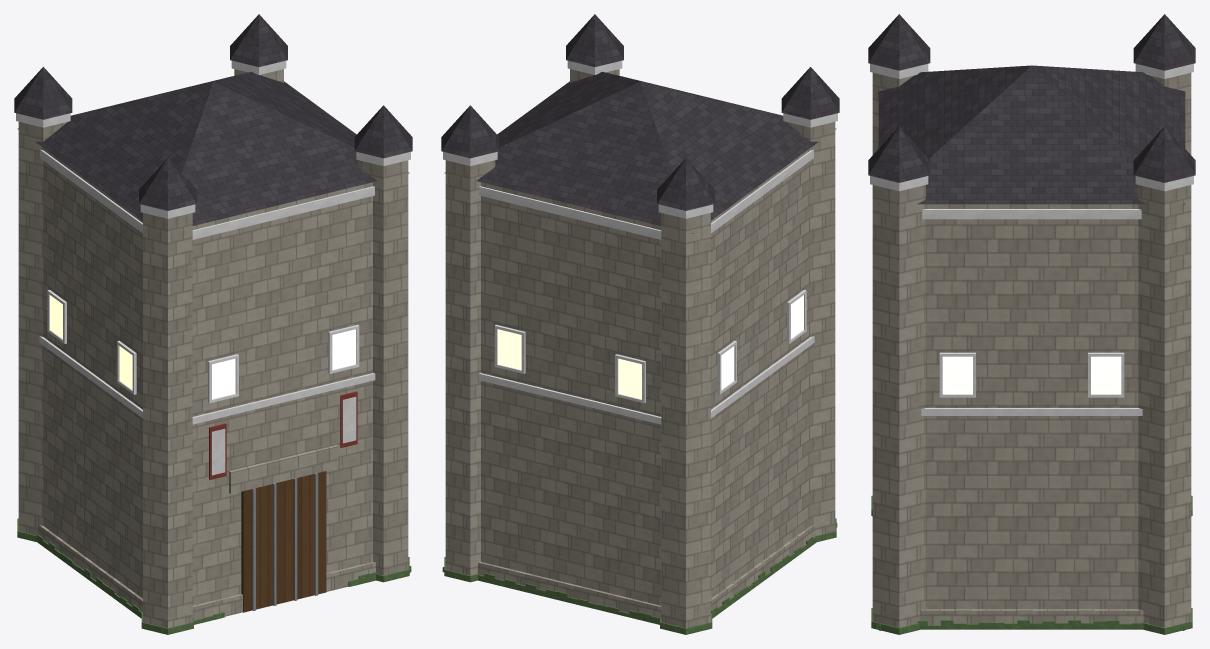
File: keep.t4.glb
3 renders of one model, left to right at view 1: azimuth 30°, elevation 25°; view 2: azimuth 150°, elevation 25°; view 3: azimuth 270°, elevation 25°, orthographic. The views are drawn at different scales.
Parts seen in each view (by area): view 1: castle.keep.t4; view 2: castle.keep.t4; view 3: castle.keep.t4.
Boxes of the visible parts, left/top/right/bottom form: castle.keep.t4: left=14, top=14, right=412, bottom=634; castle.keep.t4: left=441, top=14, right=839, bottom=634; castle.keep.t4: left=868, top=14, right=1195, bottom=634.
Size of the model in its own units: 6.6 by 10.8 by 6.41.
Materials: 9 (8 with a texture image).
